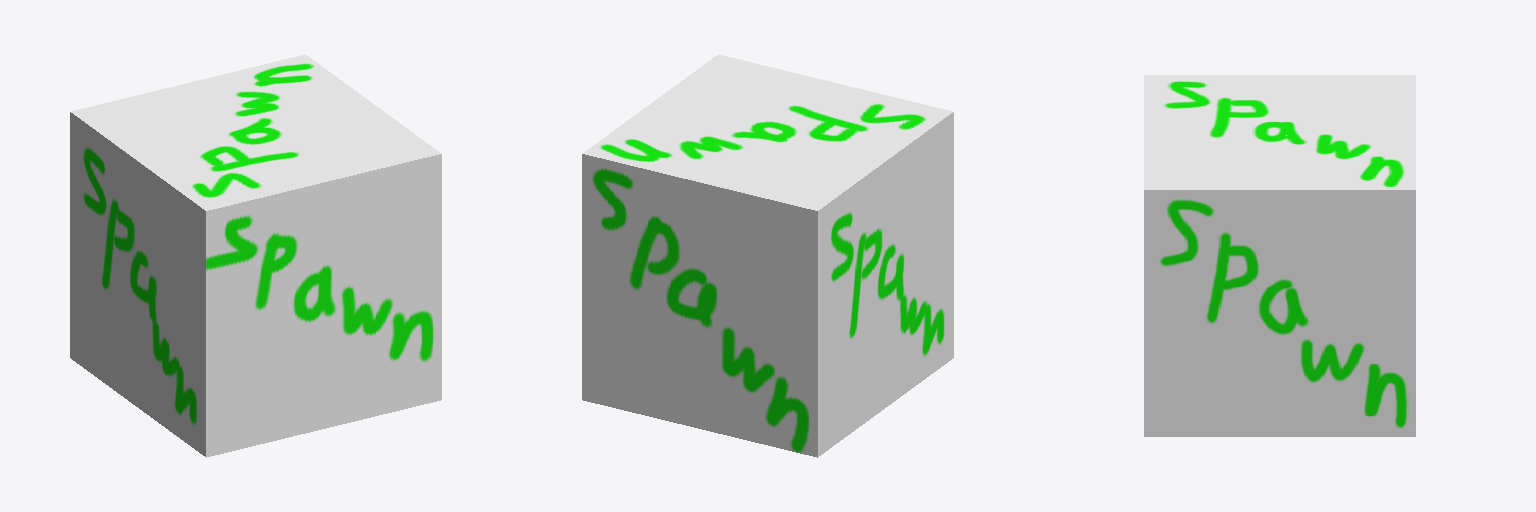
The picture shows the model from 3 angles: view 1: azimuth 30°, elevation 25°; view 2: azimuth 150°, elevation 25°; view 3: azimuth 270°, elevation 25°; orthographic projection.
Parts seen in each view (by area): view 1: 立方体; view 2: 立方体; view 3: 立方体.
Part boxes in pixels (bbox=[...]): 立方体: bbox=[70, 54, 441, 457]; 立方体: bbox=[582, 54, 953, 457]; 立方体: bbox=[1144, 75, 1415, 436].
Size of the model in its own units: 2 by 2 by 2.
1 materials, 1 textured.